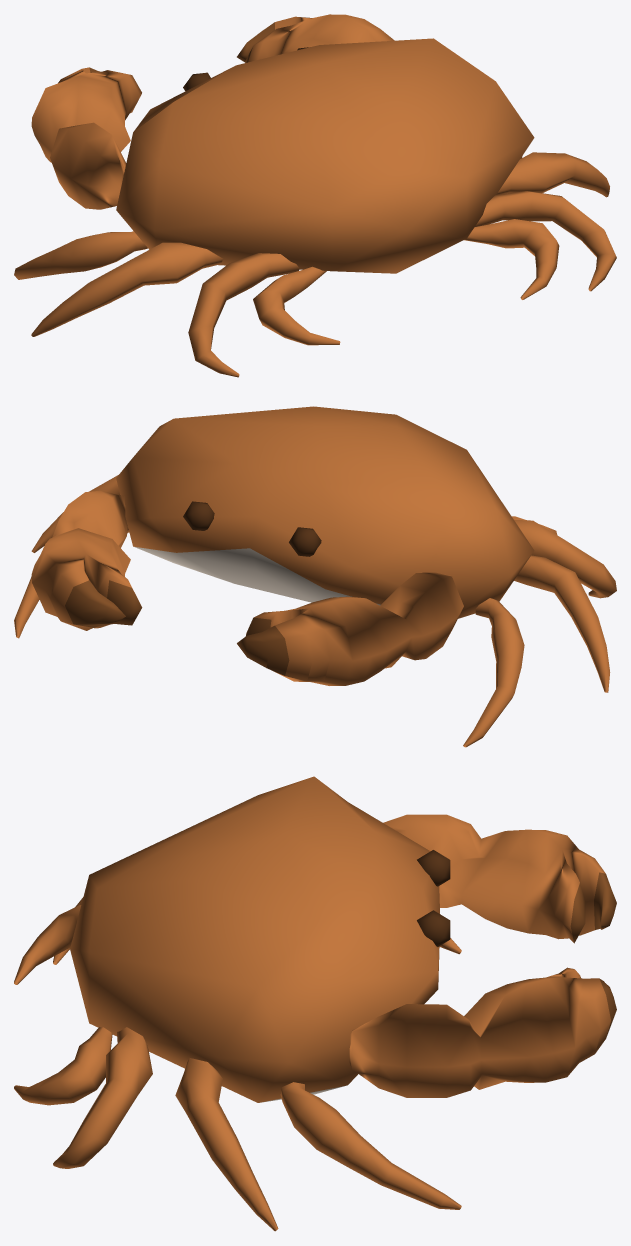
File: crab.glb
3 views of the same model, one above another, from view 1: azimuth 30°, elevation 25°; view 2: azimuth 150°, elevation 25°; view 3: azimuth 270°, elevation 25° (orthographic). The views are drawn at different scales.
Parts seen in each view (by area): view 1: Crab.1; view 2: Crab.1; view 3: Crab.1.
Part boxes in pixels (x1,y1,x2,y2): Crab.1: (14, 14, 616, 377); Crab.1: (14, 406, 616, 747); Crab.1: (14, 776, 616, 1231).
Bounding box in the file's own units: 780 × 273 × 602.
